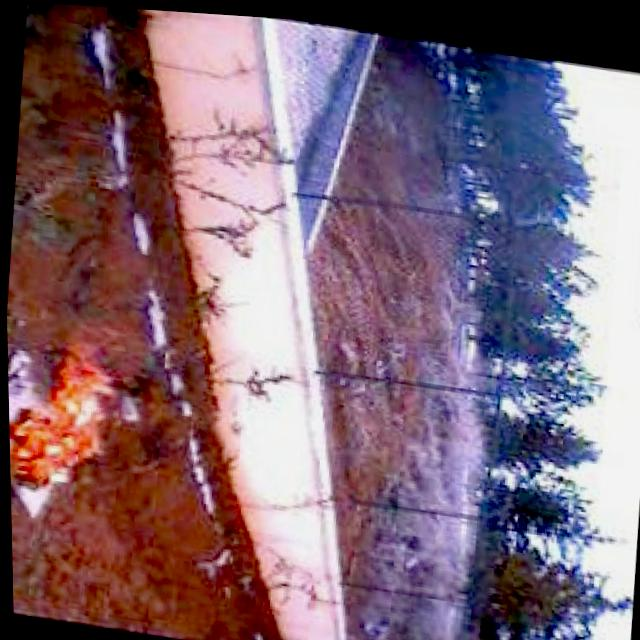Fire: (5, 315, 124, 509)
